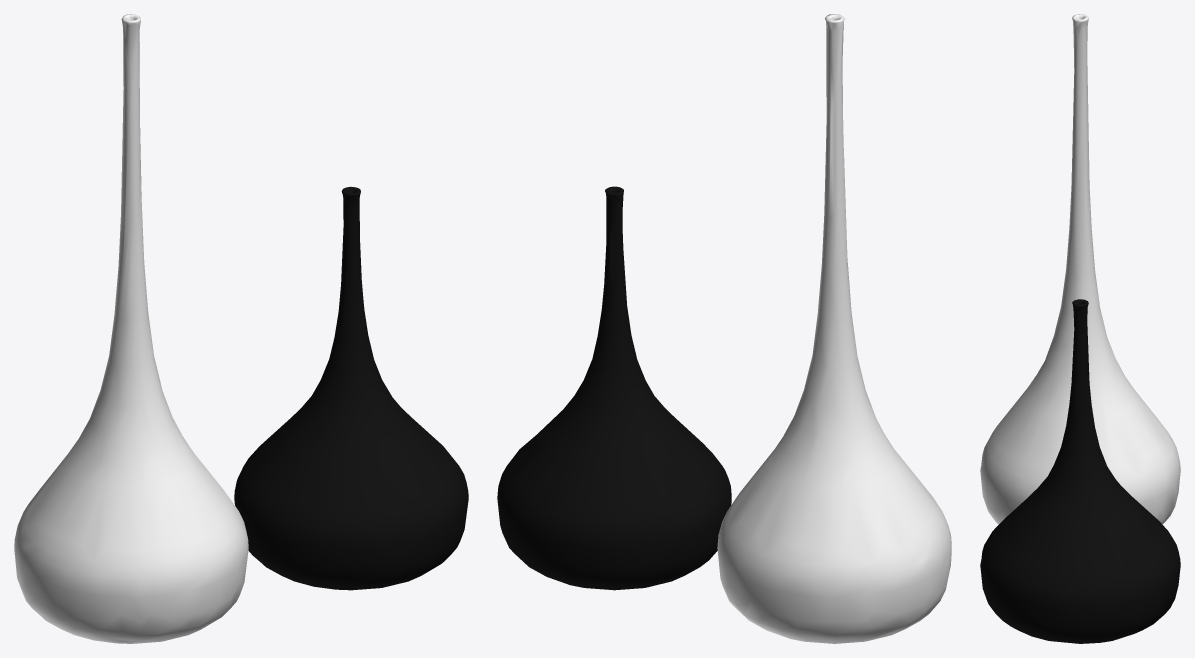
File: Vases.FBX
3 renders of one model, left to right at view 1: azimuth 30°, elevation 25°; view 2: azimuth 150°, elevation 25°; view 3: azimuth 270°, elevation 25°, orthographic. The views are drawn at different scales.
Visible parts, largest first — view 1: vase 2, vase 1; view 2: vase 2, vase 1; view 3: vase 1, vase 2.
Part boxes in pixels (bbox=[...]): vase 2: bbox=[14, 14, 248, 643]; vase 1: bbox=[234, 186, 468, 590]; vase 2: bbox=[717, 14, 951, 643]; vase 1: bbox=[497, 186, 731, 590]; vase 1: bbox=[980, 299, 1180, 643]; vase 2: bbox=[980, 14, 1180, 524].
Bounding box in the file's own units: 52.79 × 70.32 × 25.39.
1 material, 1 textured.
